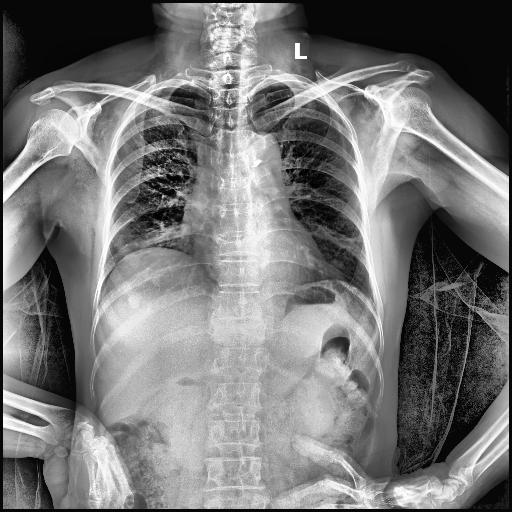0- Aortic enlargement: (236, 132, 286, 196), (236, 130, 283, 176), (246, 132, 282, 170)
